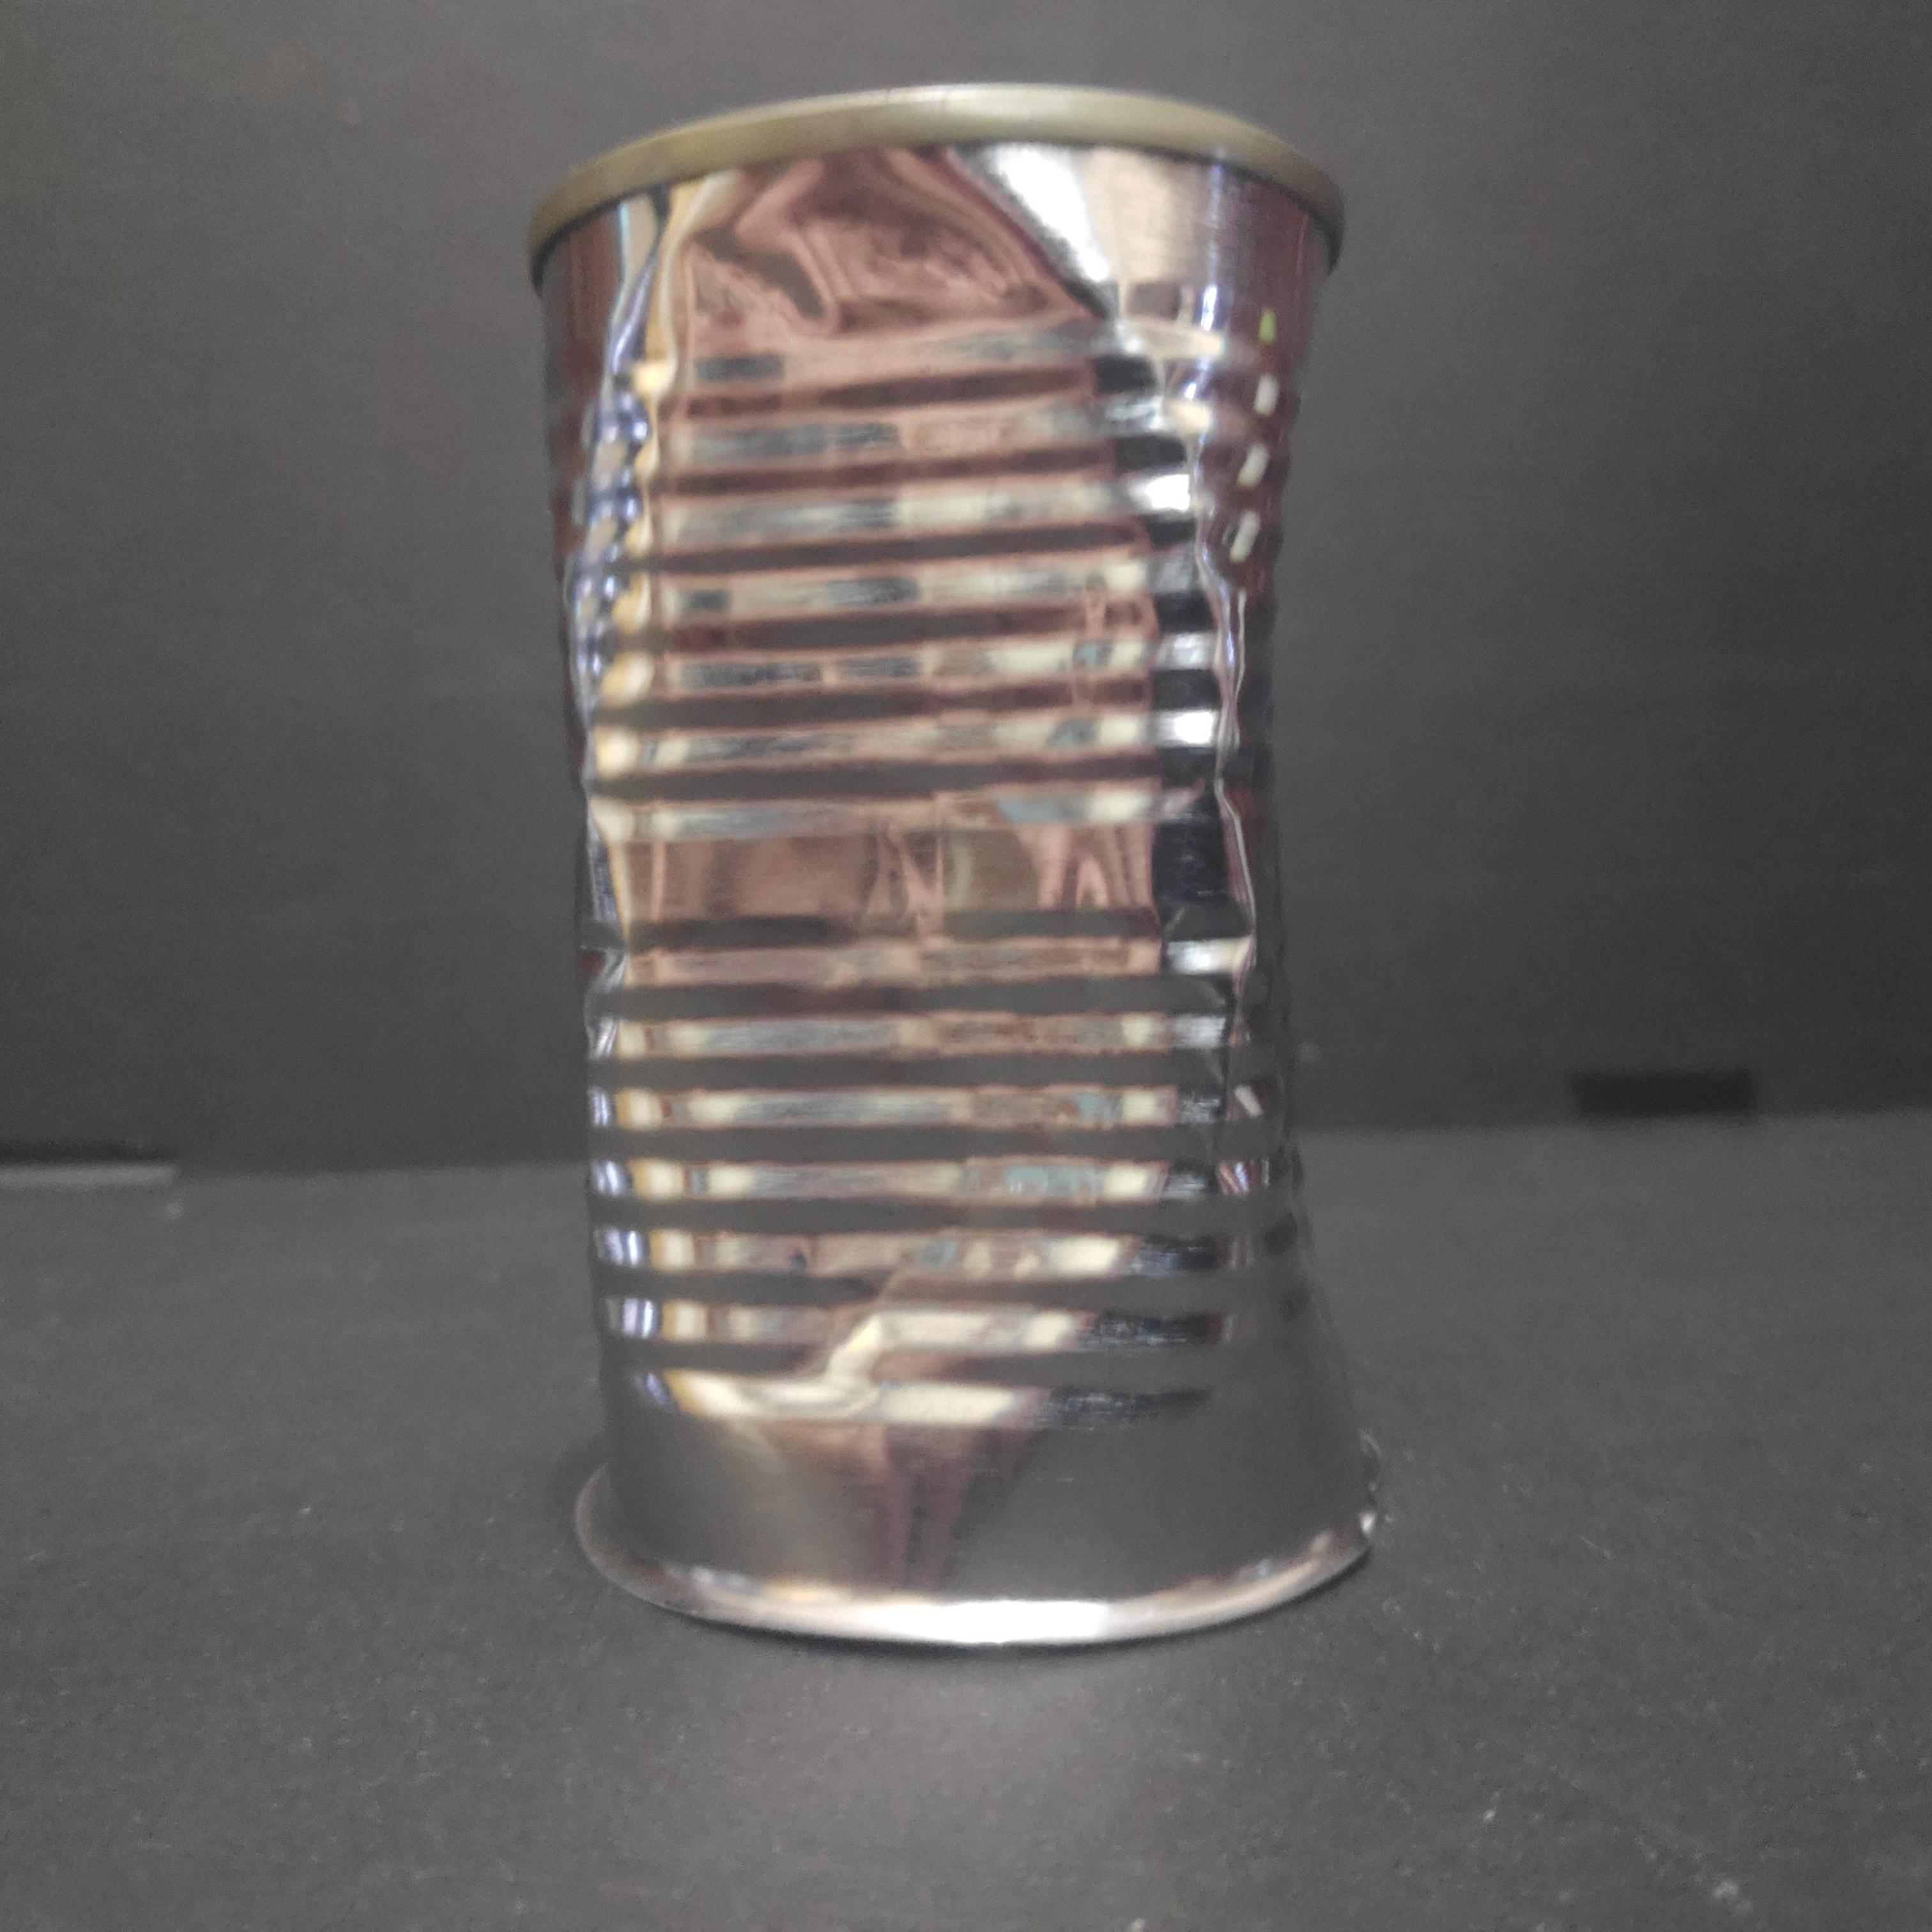Dented: (511, 74, 1431, 1693)
